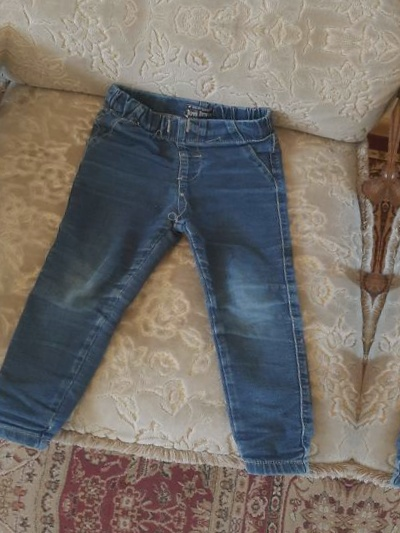Pants: (3, 54, 361, 490), (387, 105, 400, 533)
